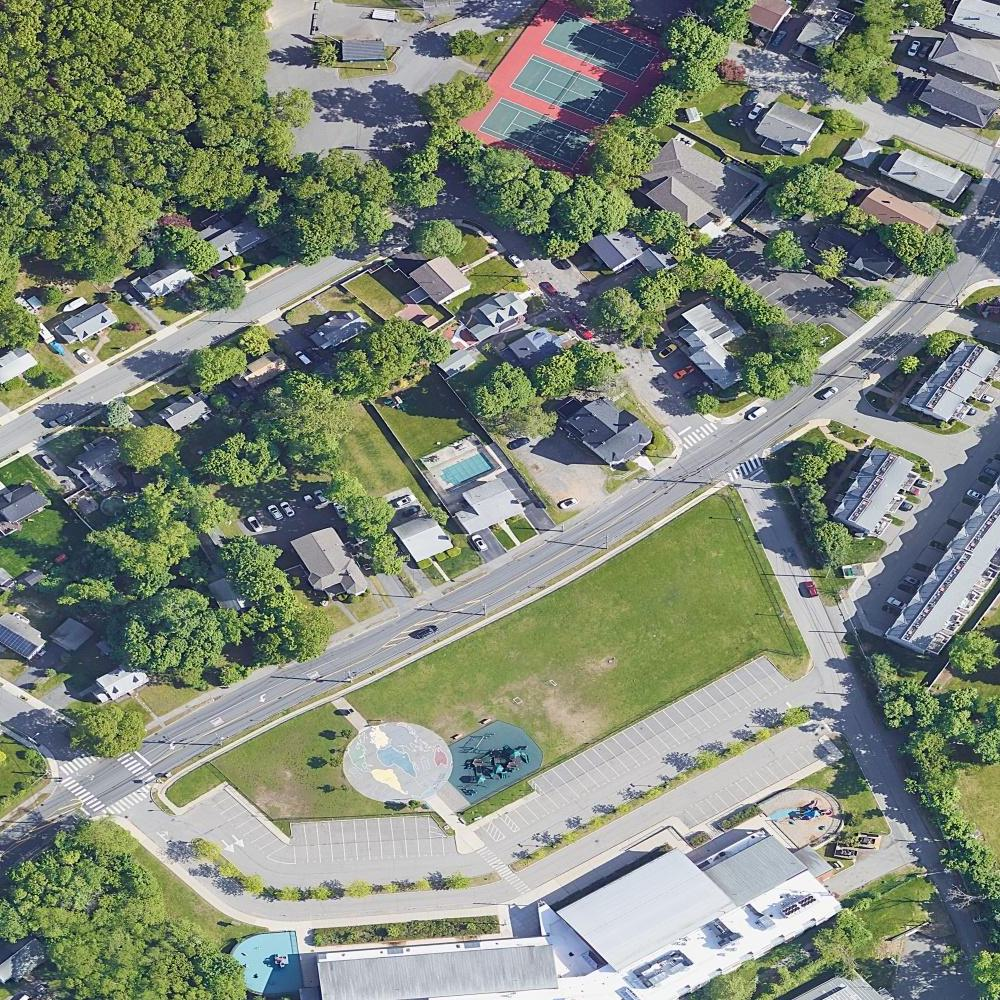A3: (86, 295, 223, 421), (232, 291, 369, 417), (423, 119, 555, 246)
